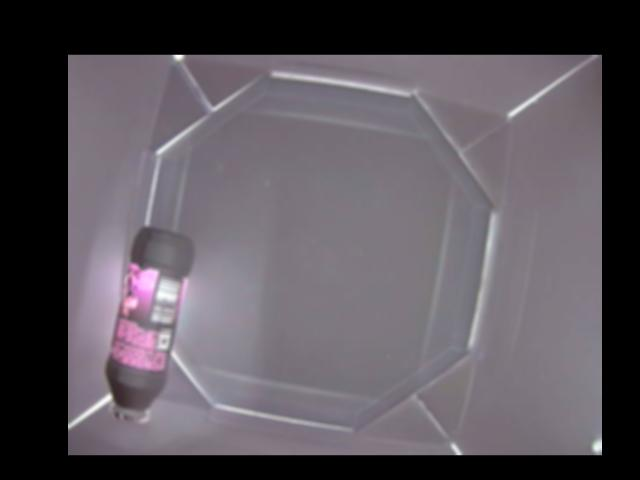Bottle: (101, 225, 194, 423)
